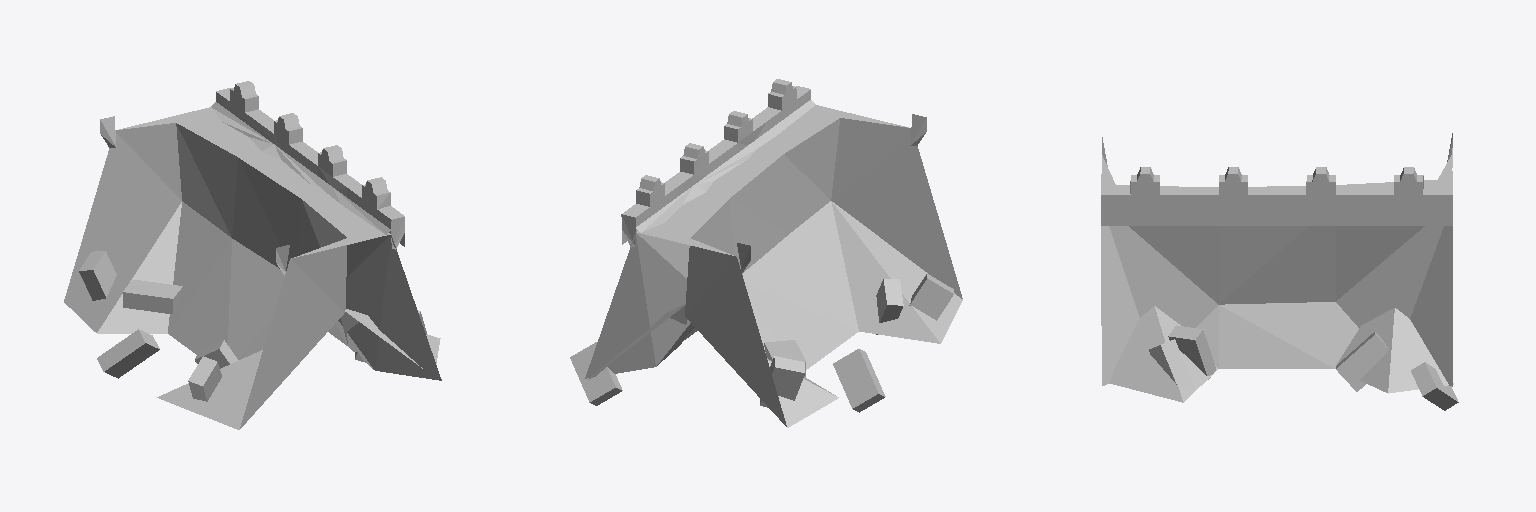
File: templeStraightNarrowSmallLeftVert_prefab.obj
3 renders of one model, left to right at view 1: azimuth 30°, elevation 25°; view 2: azimuth 150°, elevation 25°; view 3: azimuth 270°, elevation 25°, orthographic.
Parts seen in each view (by area): view 1: Object47-Pivot; view 2: Object47-Pivot; view 3: Object47-Pivot.
Part boxes in pixels (x1,y1,x2,y2): Object47-Pivot: (64,81,441,429); Object47-Pivot: (570,79,962,427); Object47-Pivot: (1101,133,1458,410).
Size of the model in its own units: 53.73 by 42.13 by 61.12.